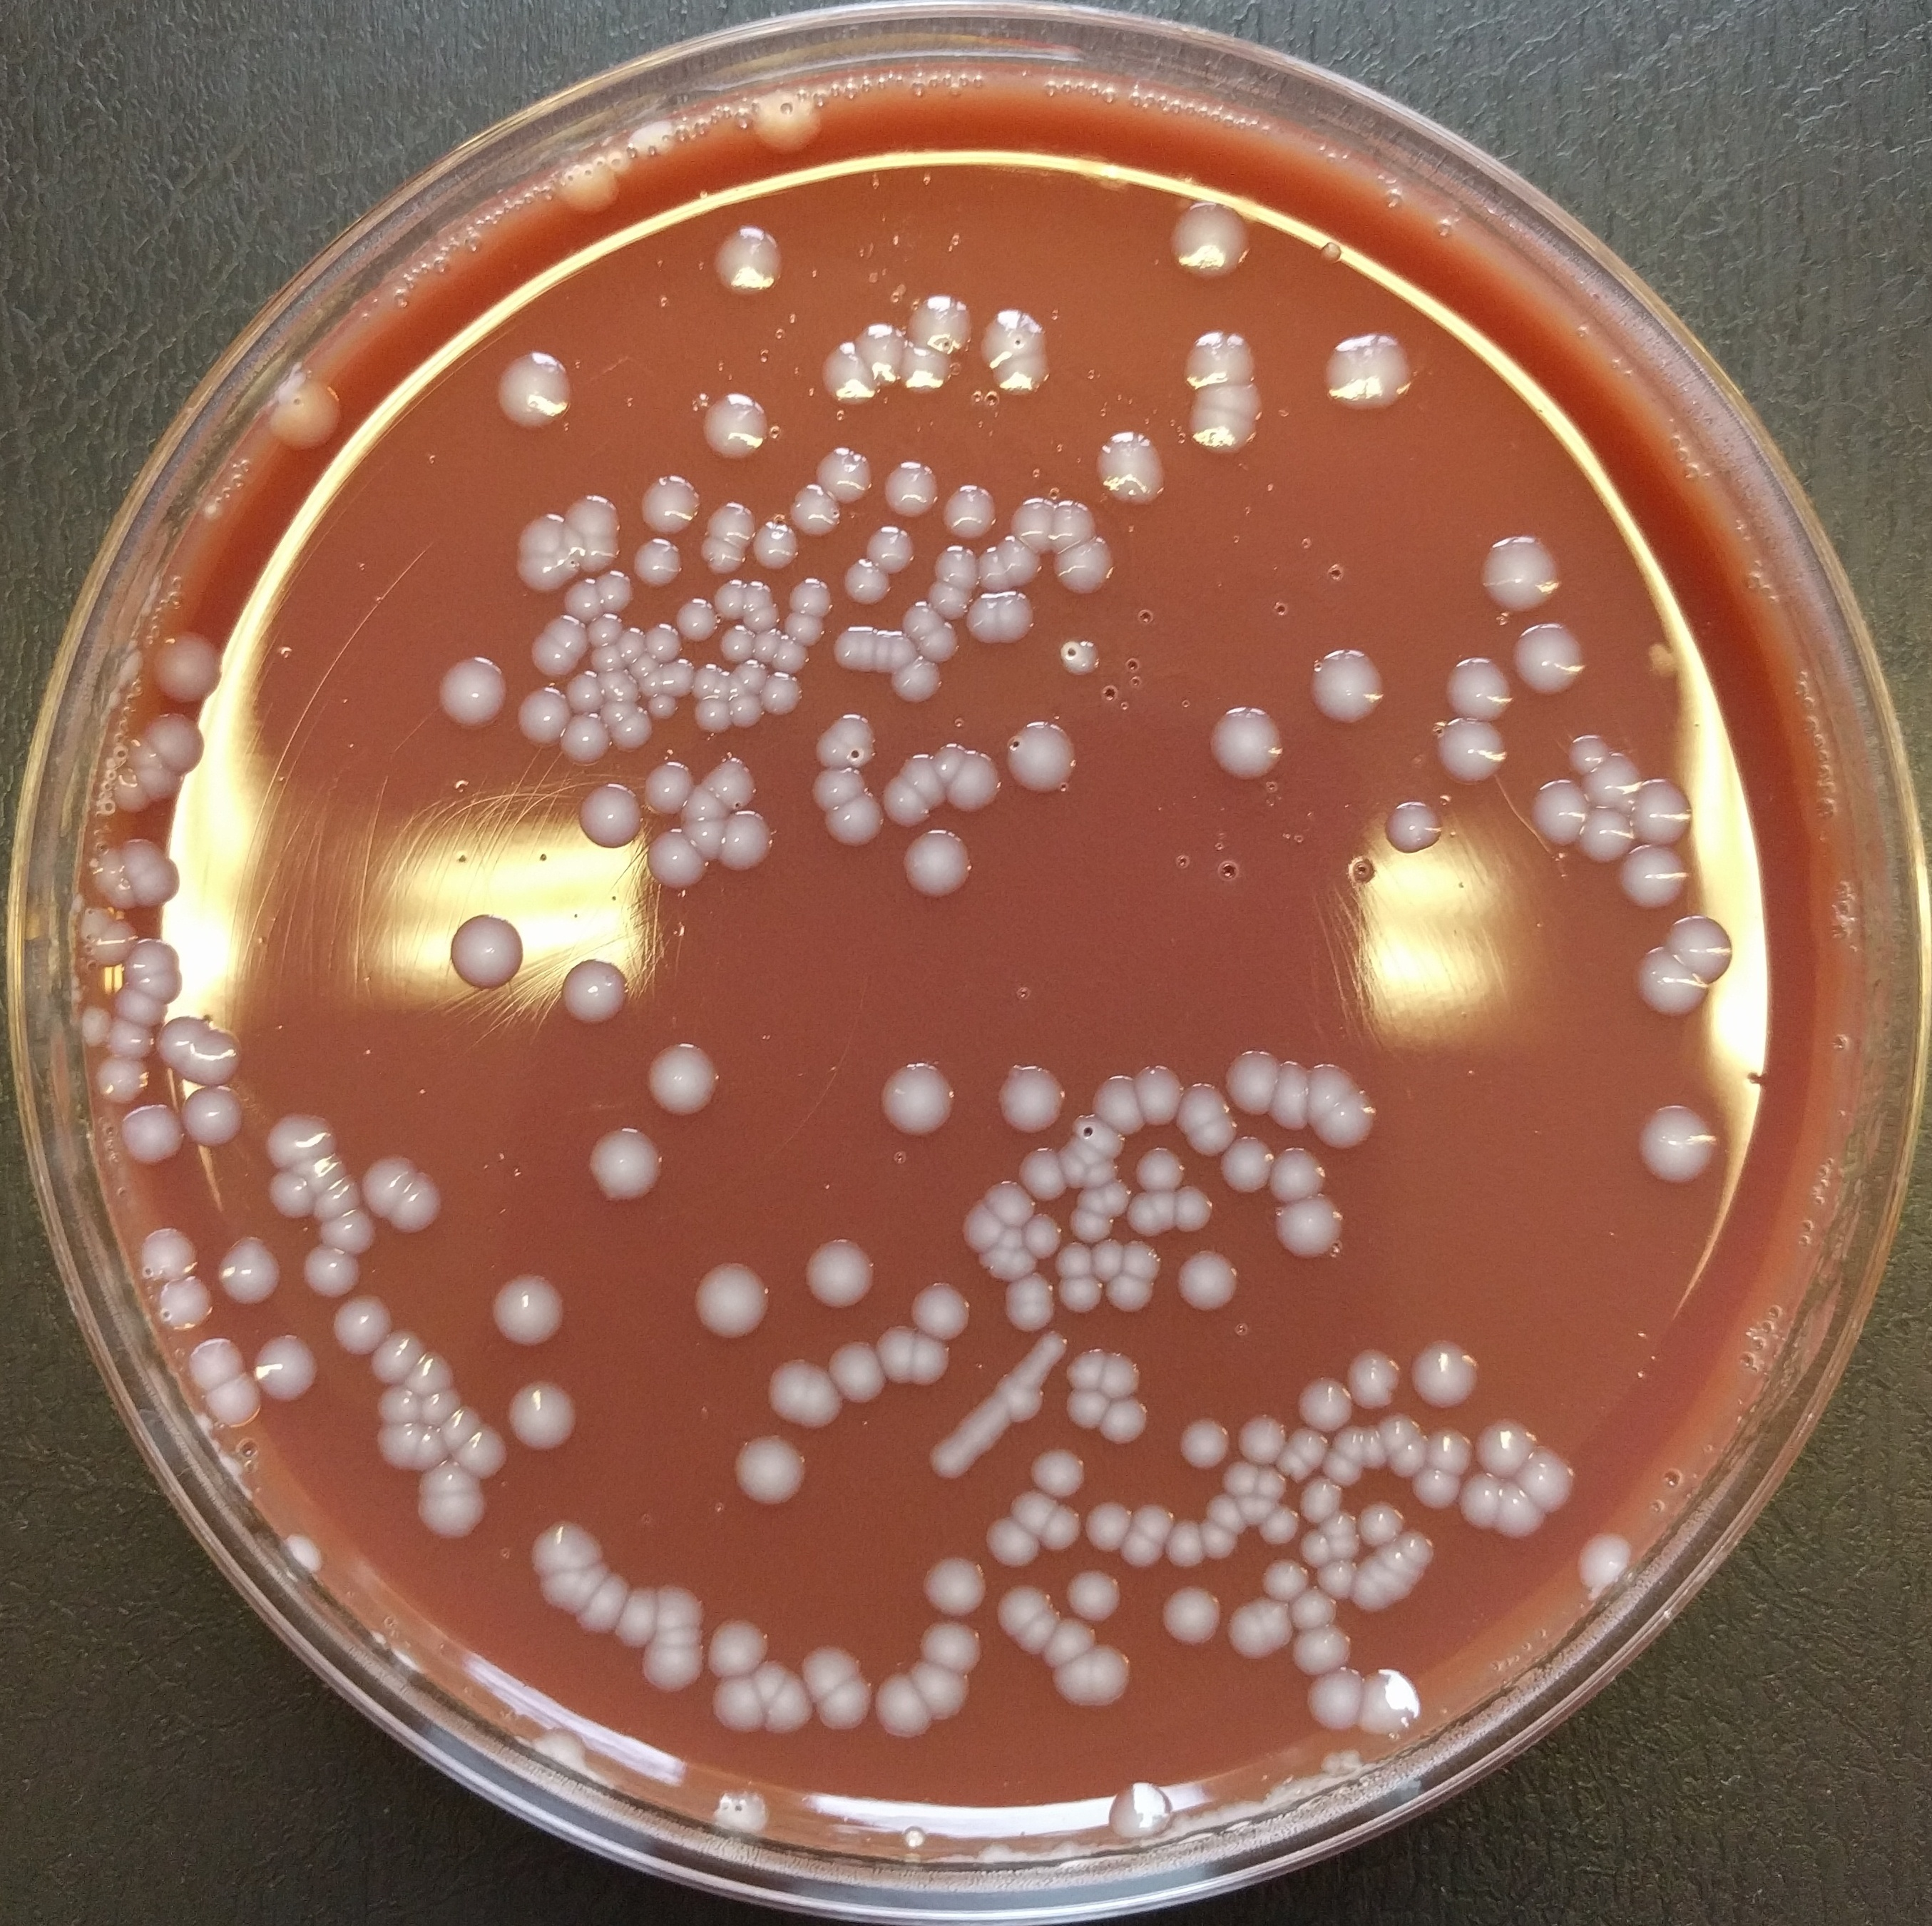sp02: (876, 774, 975, 907), (677, 1252, 770, 1351), (573, 1123, 675, 1213), (1625, 1102, 1724, 1192), (1089, 423, 1179, 519), (867, 1053, 962, 1143), (1304, 642, 1394, 734), (1322, 332, 1416, 418), (1192, 707, 1290, 787), (1475, 527, 1565, 614), (446, 907, 532, 997), (487, 351, 580, 434), (1165, 194, 1252, 282), (259, 374, 349, 455), (797, 1236, 885, 1318), (243, 1332, 328, 1415), (487, 1265, 568, 1351), (1001, 718, 1086, 799), (728, 1430, 813, 1512), (428, 653, 511, 732), (1631, 940, 1713, 1019), (1507, 621, 1592, 698), (501, 1377, 585, 1455), (642, 1041, 723, 1120), (751, 78, 830, 157), (150, 626, 226, 707), (259, 1102, 342, 1176), (1433, 654, 1518, 727), (1618, 773, 1696, 848), (1608, 840, 1692, 908), (695, 388, 770, 464), (903, 1653, 978, 1728), (1271, 1196, 1354, 1265), (531, 1549, 615, 1616), (1669, 908, 1745, 982), (991, 1064, 1066, 1138), (554, 954, 629, 1028), (710, 220, 784, 296), (1091, 1773, 1174, 1840), (1435, 713, 1511, 785), (915, 1607, 987, 1683), (529, 1512, 610, 1579), (562, 1568, 645, 1633), (407, 1489, 497, 1549), (324, 1291, 400, 1362), (811, 333, 881, 407), (213, 1236, 287, 1307), (977, 303, 1052, 372), (1405, 1337, 1481, 1406), (917, 1549, 989, 1619), (175, 1079, 245, 1152), (1512, 1441, 1581, 1515), (869, 1667, 934, 1744), (520, 1716, 599, 1780), (703, 1612, 774, 1683), (573, 783, 645, 852), (552, 159, 626, 226), (356, 1146, 421, 1222), (1527, 773, 1590, 850), (370, 1415, 448, 1478), (705, 1780, 784, 1841), (636, 471, 707, 540), (1301, 1665, 1370, 1736), (137, 711, 208, 780), (1160, 1579, 1225, 1653), (1179, 328, 1255, 392), (388, 1173, 455, 1243), (813, 437, 878, 510), (1172, 1249, 1245, 1314), (1378, 797, 1454, 859), (1266, 1143, 1334, 1210), (904, 1275, 975, 1340), (1290, 1370, 1361, 1436), (1310, 1092, 1384, 1153), (635, 1633, 709, 1695), (1220, 1051, 1285, 1120), (973, 1168, 1042, 1233), (825, 1339, 894, 1404), (1262, 1056, 1319, 1136), (1021, 1441, 1091, 1504), (130, 1222, 201, 1286), (511, 683, 573, 755), (809, 1674, 881, 1736), (1188, 376, 1278, 425), (1186, 404, 1264, 460), (903, 289, 968, 356), (298, 1243, 367, 1307), (1081, 1494, 1142, 1564), (113, 1108, 183, 1169), (712, 810, 777, 875), (1571, 802, 1638, 866), (1583, 748, 1645, 817), (709, 1670, 770, 1739), (1128, 1064, 1188, 1134), (814, 709, 880, 773), (363, 1325, 428, 1388), (146, 1011, 212, 1074), (1477, 1413, 1539, 1480), (643, 829, 712, 889), (797, 1640, 867, 1698), (850, 317, 906, 390), (975, 1510, 1047, 1566), (881, 457, 943, 522), (1051, 538, 1118, 598), (1345, 1344, 1405, 1411), (765, 1355, 818, 1430), (1495, 1478, 1551, 1549), (1065, 1568, 1126, 1631), (187, 1030, 249, 1094), (1361, 1670, 1421, 1736), (820, 794, 888, 850), (1458, 1467, 1514, 1536), (1093, 1076, 1155, 1138), (945, 750, 1005, 813), (1052, 1136, 1116, 1196), (999, 1268, 1058, 1333), (610, 1579, 661, 1653), (180, 1337, 247, 1393), (104, 982, 171, 1039), (971, 1233, 1042, 1286), (1040, 1612, 1100, 1674), (783, 483, 846, 541), (1218, 1136, 1276, 1199), (1172, 1076, 1236, 1134), (1424, 1418, 1482, 1482), (395, 1344, 458, 1402), (633, 762, 698, 818), (457, 1420, 511, 1487), (1578, 1526, 1631, 1594), (1082, 1642, 1135, 1711), (86, 1055, 157, 1106), (941, 480, 1001, 540), (208, 1370, 266, 1432), (1290, 1624, 1357, 1677), (703, 757, 765, 813), (760, 1672, 814, 1736), (368, 1385, 441, 1432), (1306, 1060, 1357, 1127), (797, 1360, 841, 1437), (1174, 1415, 1232, 1473), (897, 337, 954, 397), (992, 1374, 1052, 1430), (418, 1457, 479, 1512), (1405, 1459, 1463, 1515), (270, 1520, 326, 1579), (557, 709, 612, 769), (1290, 1469, 1345, 1529), (1232, 1407, 1287, 1467), (1096, 1390, 1151, 1450), (991, 349, 1059, 397), (1015, 1143, 1068, 1205), (160, 1273, 212, 1337), (1222, 1598, 1271, 1663), (104, 1012, 159, 1071), (991, 531, 1044, 591), (954, 1198, 1007, 1258), (261, 1166, 314, 1226), (1354, 1549, 1416, 1600), (871, 1321, 920, 1385), (287, 1148, 351, 1198), (120, 937, 183, 986), (908, 1326, 955, 1392), (435, 1402, 483, 1467), (897, 750, 950, 808), (813, 762, 871, 815), (650, 1582, 709, 1635), (316, 1212, 383, 1258), (1007, 496, 1058, 556), (1012, 1598, 1063, 1658), (120, 967, 192, 1009), (412, 1385, 474, 1434), (557, 492, 620, 540), (1045, 496, 1093, 559), (629, 536, 684, 591), (1061, 1385, 1114, 1441), (132, 854, 185, 910), (520, 633, 580, 683), (892, 653, 945, 707), (1095, 1349, 1146, 1406), (1336, 1561, 1387, 1617), (994, 1580, 1045, 1637), (1255, 1557, 1315, 1605), (1125, 1187, 1178, 1240), (1354, 1496, 1407, 1549), (1052, 1646, 1096, 1709), (1377, 1411, 1426, 1467), (864, 526, 922, 573), (649, 1619, 714, 1661), (754, 511, 800, 571), (508, 513, 568, 559), (1100, 1268, 1160, 1314), (1037, 1496, 1082, 1556), (841, 556, 894, 607), (1315, 1441, 1368, 1492), (1116, 1522, 1170, 1571), (677, 785, 733, 832), (1054, 1270, 1111, 1318), (1250, 1594, 1292, 1658), (747, 1654, 795, 1711), (312, 1176, 368, 1224), (86, 919, 143, 967), (1130, 1143, 1188, 1189), (1165, 1512, 1211, 1570), (931, 541, 982, 593), (677, 813, 728, 864), (1283, 1420, 1333, 1473), (1202, 1489, 1255, 1538), (1128, 1501, 1183, 1549), (1007, 1478, 1052, 1534), (1370, 1542, 1428, 1586), (672, 594, 721, 646), (705, 499, 756, 549), (829, 628, 881, 676), (1077, 1113, 1130, 1161), (1220, 1460, 1274, 1506), (569, 533, 628, 575), (962, 587, 1005, 646), (555, 674, 610, 718), (1188, 1116, 1243, 1161), (786, 573, 836, 621), (1564, 730, 1613, 778), (994, 591, 1037, 646), (511, 552, 568, 593), (1084, 1240, 1132, 1288), (1195, 1515, 1243, 1563), (1329, 1422, 1375, 1471), (1290, 1582, 1336, 1631), (116, 832, 166, 878), (922, 579, 973, 623), (1174, 1182, 1218, 1233), (536, 612, 589, 654), (760, 667, 802, 720), (608, 707, 656, 753), (716, 621, 760, 670), (1253, 1504, 1303, 1549), (1068, 1203, 1121, 1243), (412, 1425, 453, 1478), (696, 540, 751, 579), (1021, 1210, 1063, 1259), (1081, 1159, 1133, 1198), (1051, 1240, 1098, 1282), (1065, 1344, 1107, 1392), (1294, 1527, 1341, 1570), (118, 732, 166, 774), (104, 769, 153, 810), (598, 568, 636, 619), (562, 580, 605, 626), (899, 600, 945, 642), (74, 907, 116, 952), (656, 654, 696, 702), (1315, 1557, 1363, 1598), (74, 998, 111, 1049), (1121, 1240, 1165, 1282), (783, 608, 829, 649), (591, 693, 638, 732), (1398, 1522, 1437, 1570), (931, 739, 968, 788), (83, 847, 120, 896), (583, 614, 628, 654), (920, 623, 961, 667), (1058, 635, 1098, 679), (691, 695, 733, 735), (640, 624, 684, 663), (747, 626, 783, 674), (1095, 1180, 1137, 1219), (770, 633, 807, 677), (1232, 1490, 1276, 1527), (145, 758, 182, 802), (888, 626, 920, 677), (977, 541, 1008, 593), (1361, 1423, 1393, 1474), (1148, 1185, 1183, 1231), (1317, 1512, 1363, 1547), (613, 626, 652, 667), (723, 691, 762, 732), (737, 580, 777, 619), (1333, 1529, 1370, 1570), (712, 579, 747, 621), (740, 601, 784, 635), (585, 644, 631, 676), (732, 658, 770, 695), (1252, 1464, 1287, 1504), (1408, 1430, 1444, 1469), (1273, 1444, 1308, 1483), (871, 624, 895, 679), (550, 547, 587, 580), (996, 1221, 1029, 1258), (1387, 1441, 1421, 1478), (108, 873, 139, 912), (691, 660, 717, 702), (638, 667, 668, 702), (626, 653, 663, 681), (1075, 1187, 1114, 1213), (598, 668, 633, 695), (643, 695, 679, 721), (712, 668, 735, 705), (726, 668, 749, 702), (605, 681, 640, 702)
